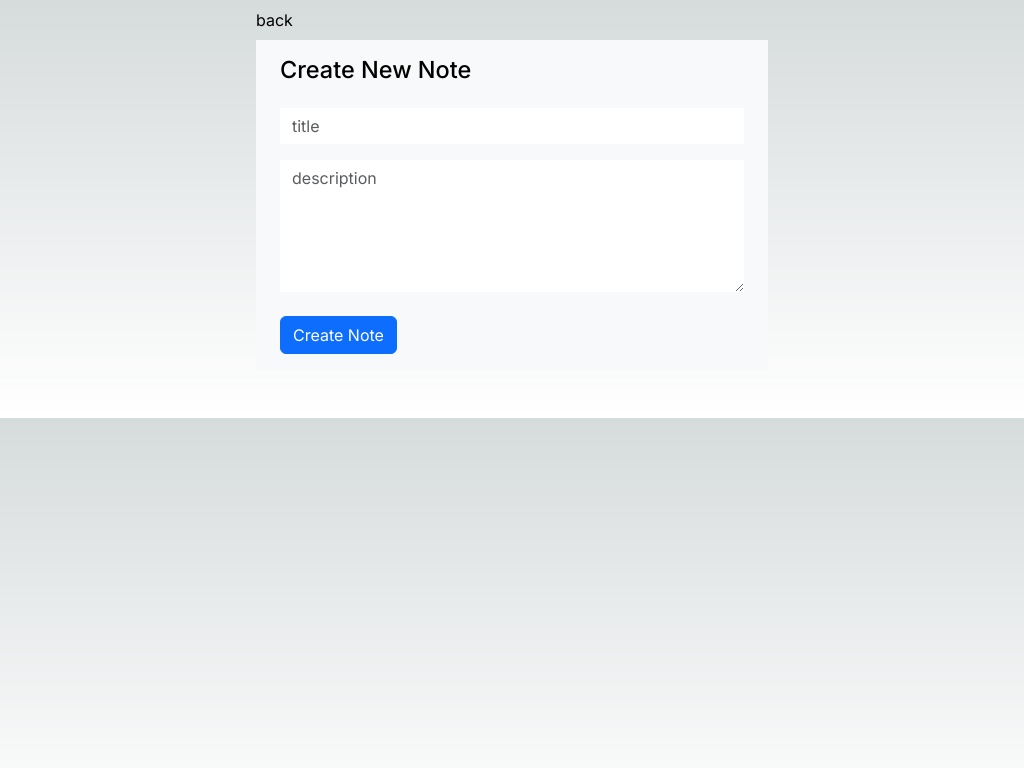
it: Page Component › handles form submission with valid data
The image size is (1024, 768).
Step 1. Type "Test Title" into the field with placeholder "title" → [512, 126], box left=280, top=108, right=744, bottom=144
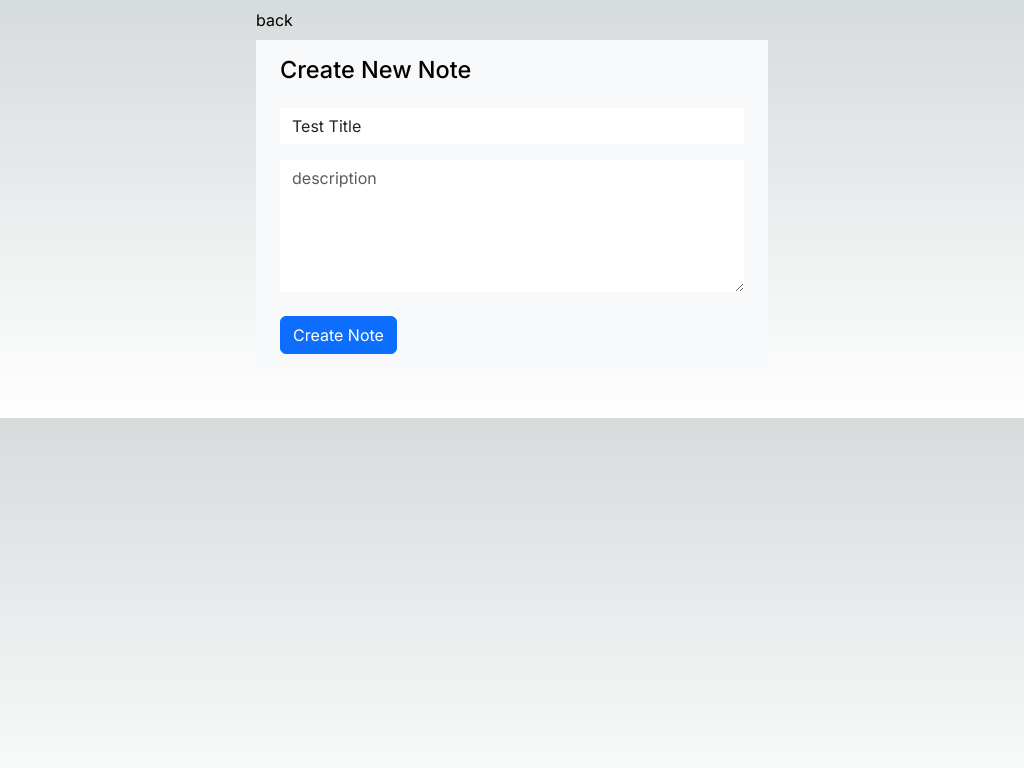
Step 2. Type "Test Description" into the text box with placeholder "description" → [512, 226], box left=280, top=160, right=744, bottom=292
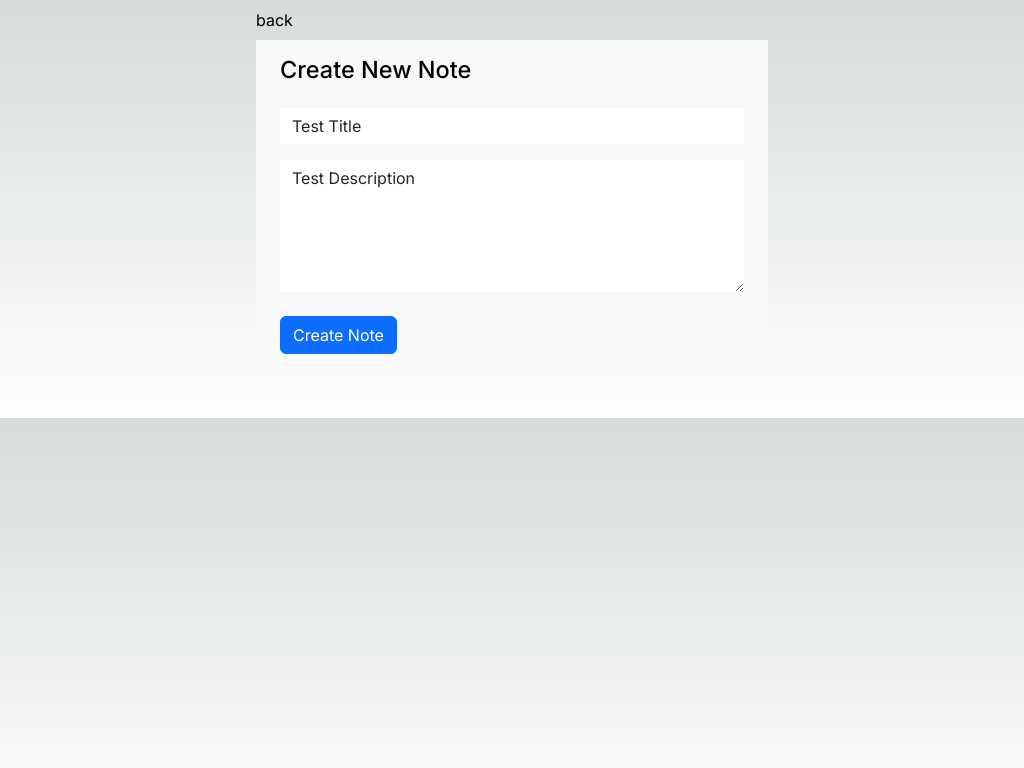
Step 3. Click the button "Create Note" → [338, 335], box left=280, top=316, right=397, bottom=354
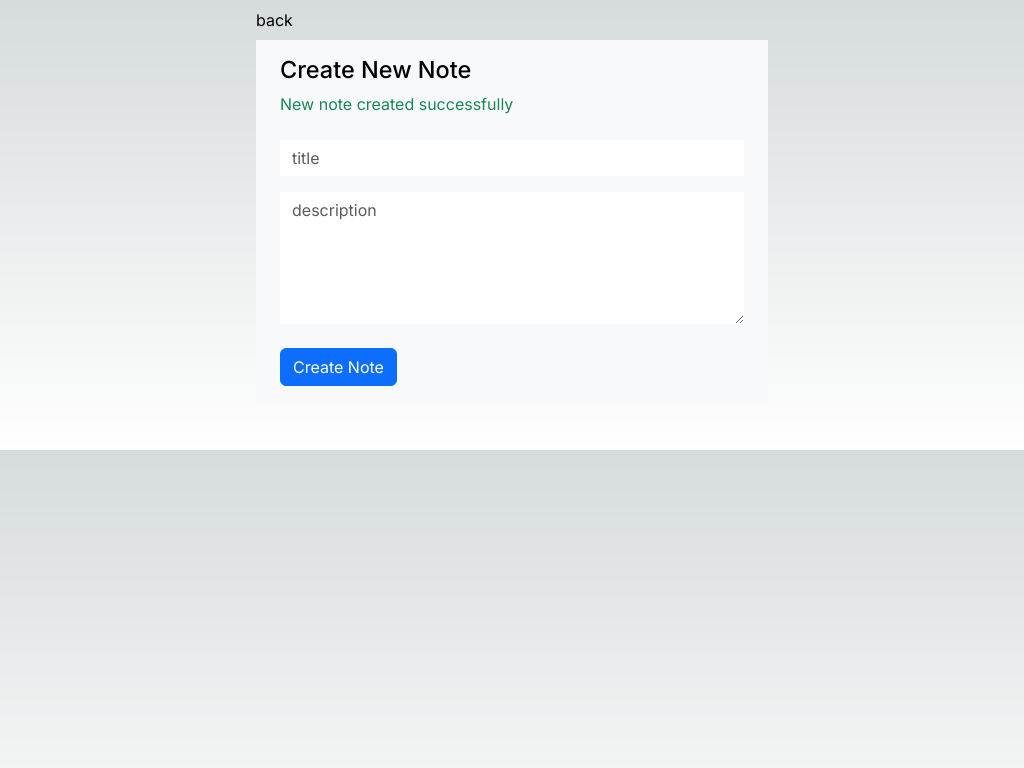
expect the text "New note created successfully" is shown: met, box left=280, top=94, right=513, bottom=114
